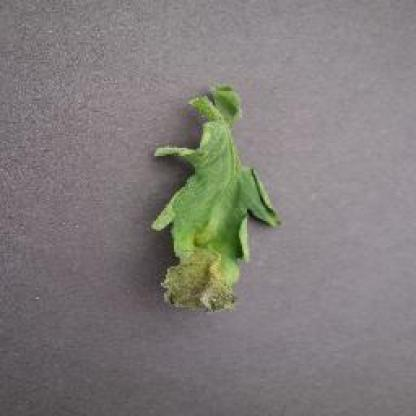bad leaf: (139, 52, 294, 324), (155, 70, 280, 232), (149, 239, 251, 330)
